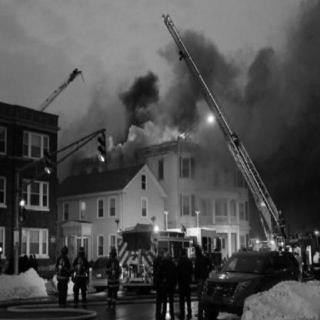Smoke: (259, 24, 313, 174), (106, 94, 220, 142)
other: (112, 222, 170, 242), (242, 233, 286, 257), (13, 198, 31, 208), (205, 112, 217, 125)
